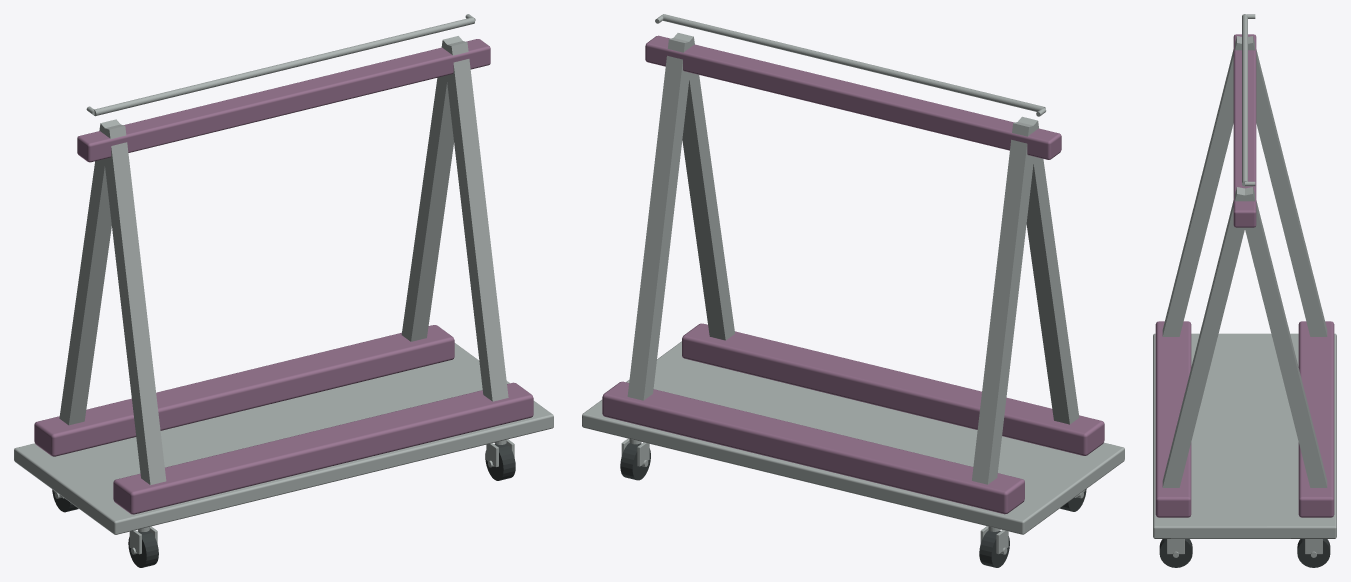
The model's file is museum-conservation-and-art-restoration-museum-conserv-f85ec81c__31884.glb.
3 views of the same model, side by side, from view 1: azimuth 30°, elevation 25°; view 2: azimuth 150°, elevation 25°; view 3: azimuth 270°, elevation 25° (orthographic). The views are drawn at different scales.
Parts seen in each view (by area): view 1: museum-conservation-and-art-restoration-padded-painting-tran (×3); view 2: museum-conservation-and-art-restoration-padded-painting-tran (×3); view 3: museum-conservation-and-art-restoration-padded-painting-tran (×3).
Boxes of the visible parts, bbox=[...] form: museum-conservation-and-art-restoration-padded-painting-tran (×3): bbox=[14, 14, 553, 567]; museum-conservation-and-art-restoration-padded-painting-tran (×3): bbox=[582, 14, 1124, 567]; museum-conservation-and-art-restoration-padded-painting-tran (×3): bbox=[1153, 14, 1336, 567].
Bounding box in the file's own units: 1.8 × 1.68 × 0.7199.
